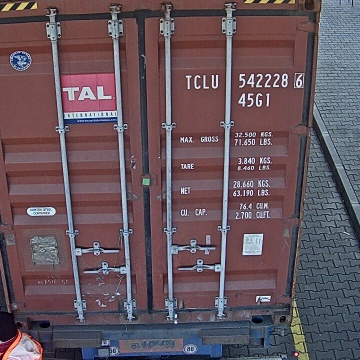serial_id: (185, 73, 302, 89)
